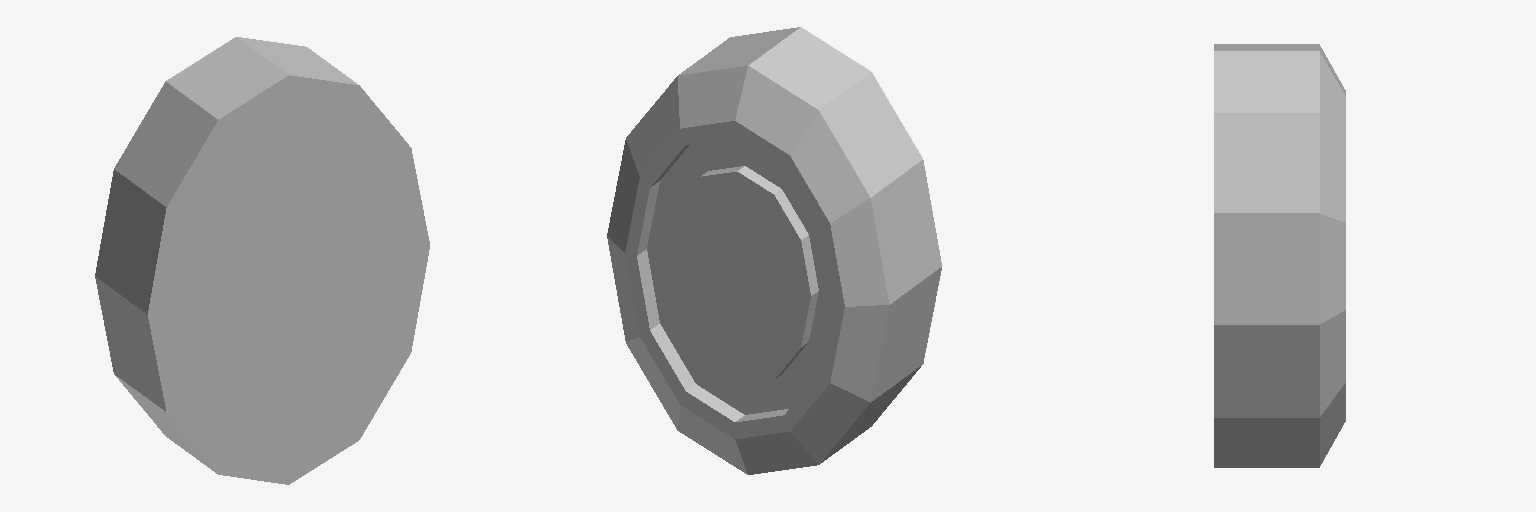
File: roda.obj
3 renders of one model, left to right at view 1: azimuth 30°, elevation 25°; view 2: azimuth 150°, elevation 25°; view 3: azimuth 270°, elevation 25°, orthographic.
Visible parts, largest first — view 1: roda_wheelfr_Cylinder.002; view 2: roda_wheelfr_Cylinder.002; view 3: roda_wheelfr_Cylinder.002.
Boxes of the visible parts, x1=… form: roda_wheelfr_Cylinder.002: x1=95, y1=37, x2=429, y2=484; roda_wheelfr_Cylinder.002: x1=607, y1=27, x2=941, y2=474; roda_wheelfr_Cylinder.002: x1=1214, y1=44, x2=1345, y2=467.
Size of the model in its own units: 1.19 by 1.65 by 0.4803.